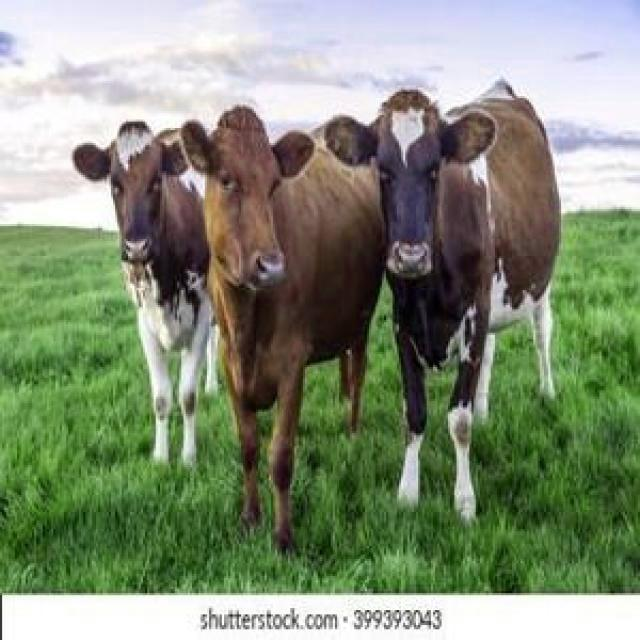cow: (321, 81, 560, 522), (181, 106, 384, 549), (72, 121, 210, 466)
